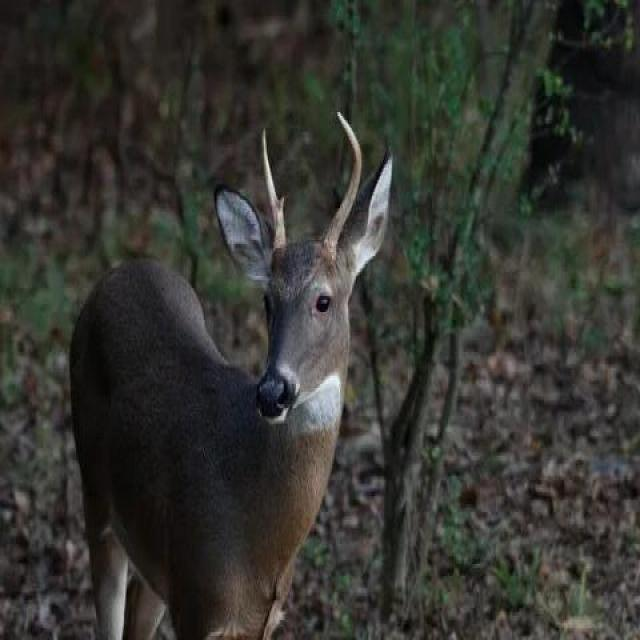deer: (144, 160, 382, 633)
